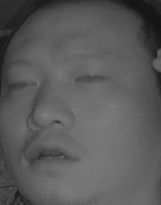blink: (73, 67, 107, 90), (9, 74, 39, 95)
mouth: (24, 134, 82, 174)
